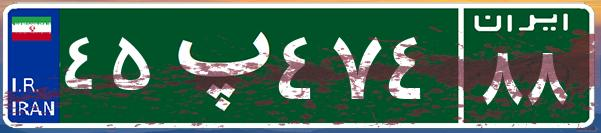4: (385, 28, 445, 110), (273, 28, 330, 110), (57, 26, 110, 107)
5: (110, 28, 158, 105)
7: (330, 28, 385, 110)
8: (475, 38, 525, 113), (525, 38, 570, 115)
پ: (158, 15, 273, 115)
